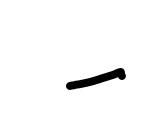minus: (67, 67, 127, 92)
